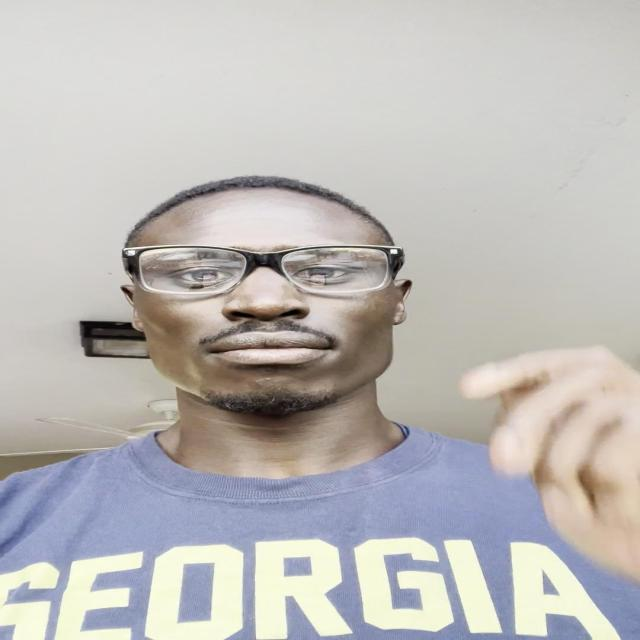NO-Mask: (112, 178, 413, 438)
